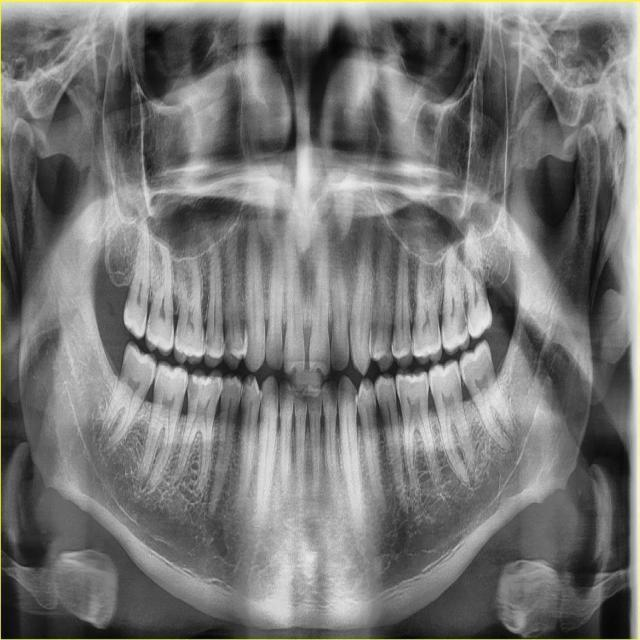Caries: (188, 375, 200, 403), (458, 312, 467, 333), (204, 333, 212, 351), (224, 336, 232, 353), (385, 336, 392, 354), (241, 386, 247, 405), (146, 315, 152, 333), (181, 376, 187, 394), (201, 333, 206, 348), (407, 334, 412, 349), (411, 335, 417, 347), (460, 363, 465, 377), (391, 338, 396, 351), (175, 328, 180, 339), (279, 341, 282, 358), (409, 382, 416, 389), (331, 339, 334, 355), (456, 366, 460, 378), (220, 342, 224, 353)
